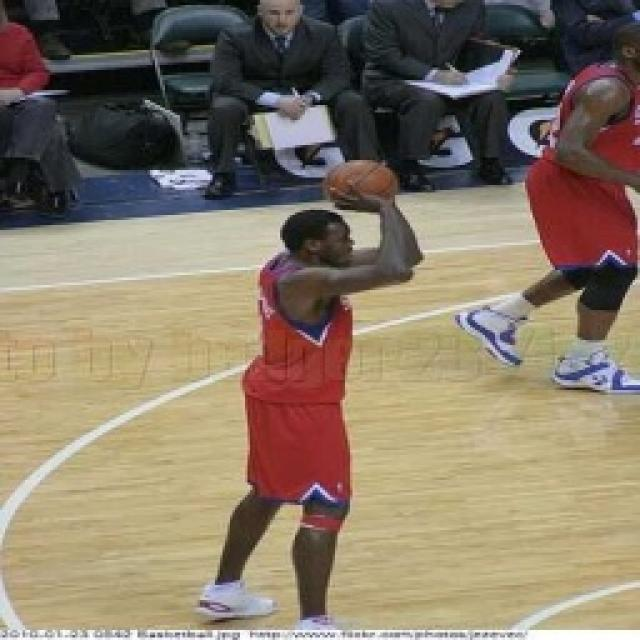rim: (331, 158, 396, 210)
